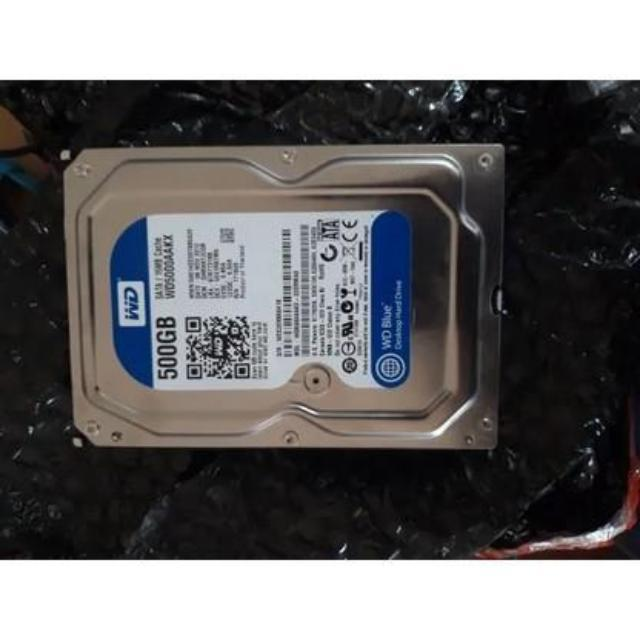DISK: (54, 128, 506, 458)
